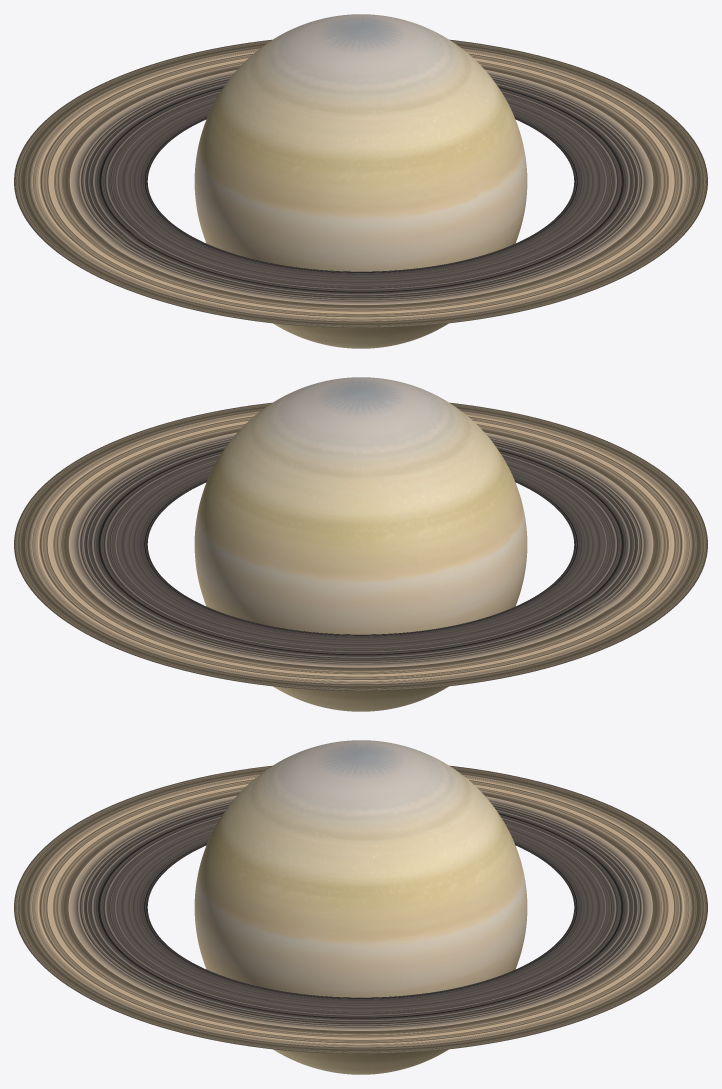
3 renders of one model, top to bottom at view 1: azimuth 30°, elevation 25°; view 2: azimuth 150°, elevation 25°; view 3: azimuth 270°, elevation 25°, orthographic.
Visible parts, largest first — view 1: Torus, Sphere; view 2: Torus, Sphere; view 3: Torus, Sphere.
Part boxes in pixels (left/top/right/bottom): Torus: left=14, top=39, right=707, bottom=327; Sphere: left=194, top=14, right=527, bottom=348; Torus: left=14, top=402, right=707, bottom=690; Sphere: left=194, top=377, right=527, bottom=711; Torus: left=14, top=765, right=707, bottom=1053; Sphere: left=194, top=740, right=527, bottom=1074.
Bounding box in the file's own units: 1235 × 599 × 1235.
6 materials, 6 textured.
